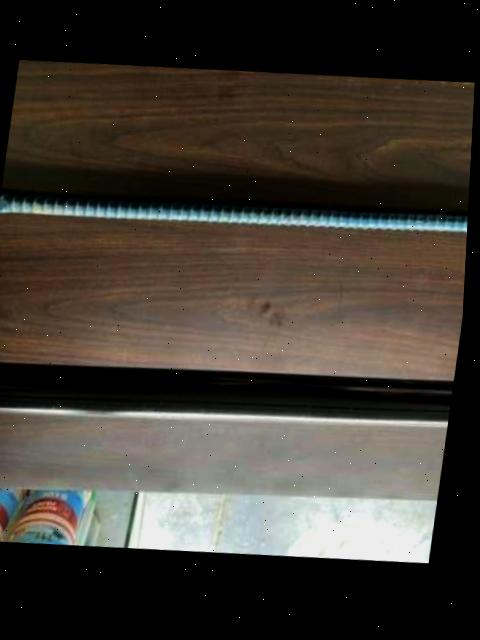crow bar: (0, 182, 471, 249)
